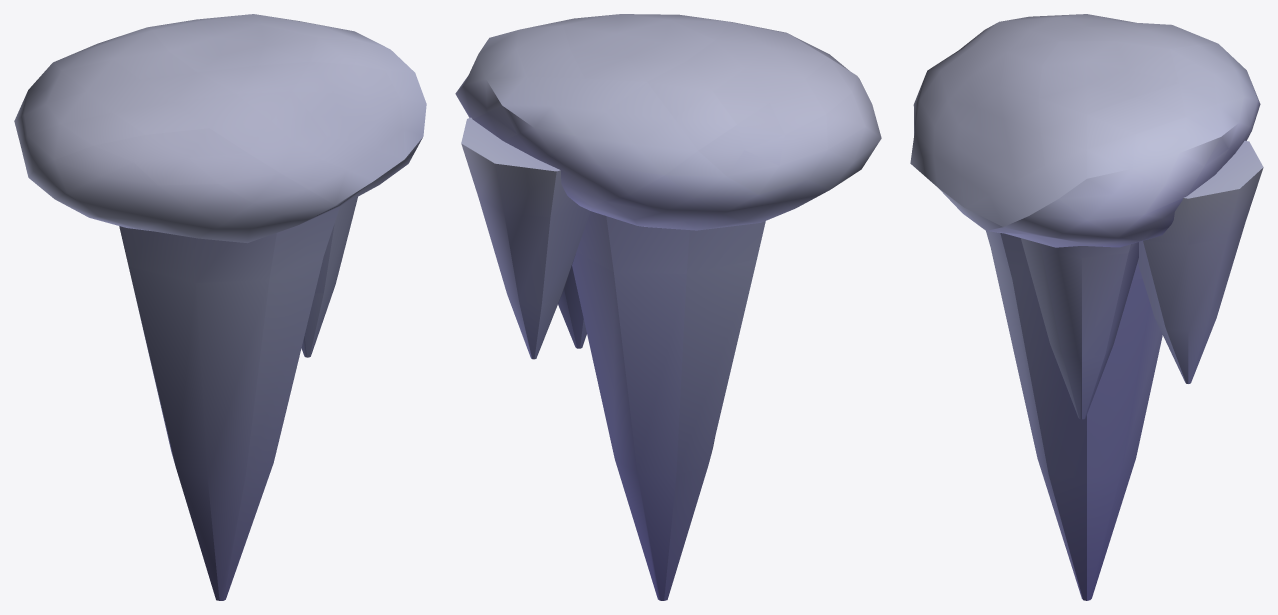
Rendered from verdant_cave_stalactite_a.glb.
The picture shows the model from 3 angles, left to right: view 1: azimuth 30°, elevation 25°; view 2: azimuth 150°, elevation 25°; view 3: azimuth 270°, elevation 25°; orthographic projection. The views are drawn at different scales.
Visible parts, largest first — view 1: verdant_cave_stalactite_a; view 2: verdant_cave_stalactite_a; view 3: verdant_cave_stalactite_a.
Part boxes in pixels (bbox=[...]): verdant_cave_stalactite_a: bbox=[14, 14, 426, 600]; verdant_cave_stalactite_a: bbox=[455, 14, 881, 600]; verdant_cave_stalactite_a: bbox=[910, 14, 1263, 600].
Size of the model in its own units: 1.82 by 2.54 by 1.51.
